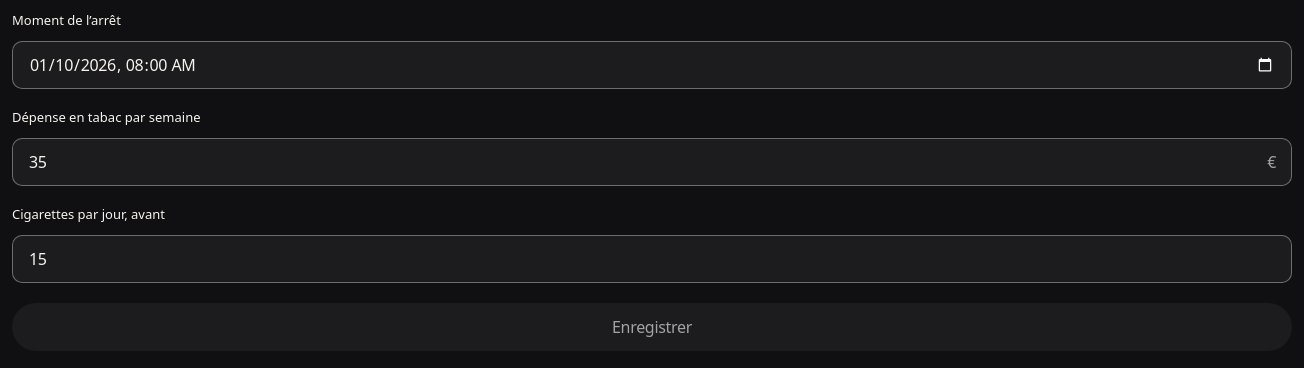
it: has one save for the whole screen, asleep until a value changes
Expected: the number of buttons is 1, [12,303,1292,351]
Expected: the button "Enregistrer" is disabled, [12,303,1292,351]
Replace the text in the field labelled "Cigarettes par jour, avant" with "20" at (652, 259), box [12,235,1292,283]
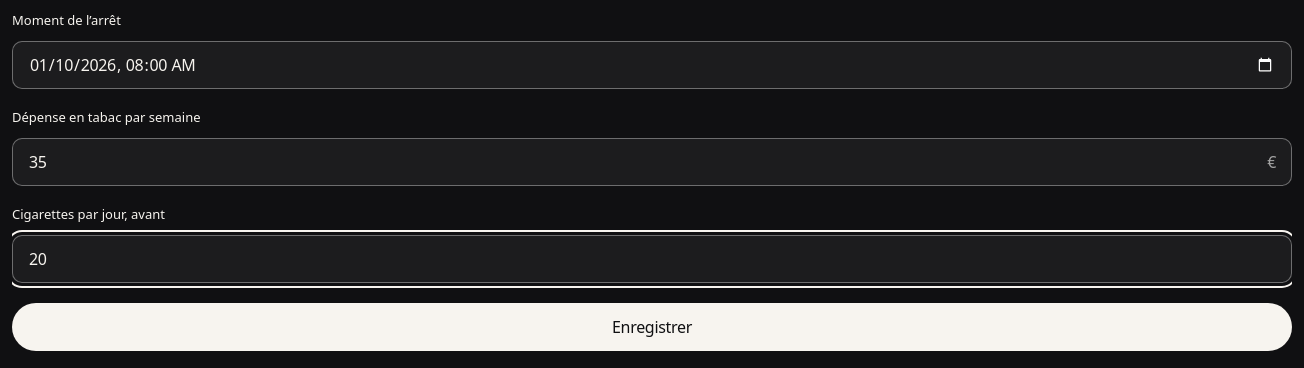
Now the button "Enregistrer" is enabled, box [12,303,1292,351]
Replace the text in the field labelled "Cigarettes par jour, avant" with "15" at (652, 259), box [12,235,1292,283]
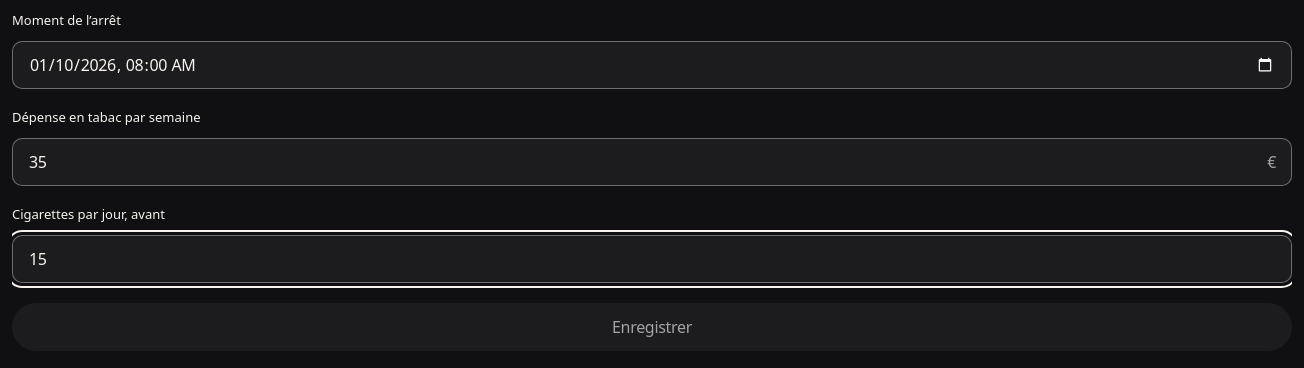
Now the button "Enregistrer" is disabled, box [12,303,1292,351]
